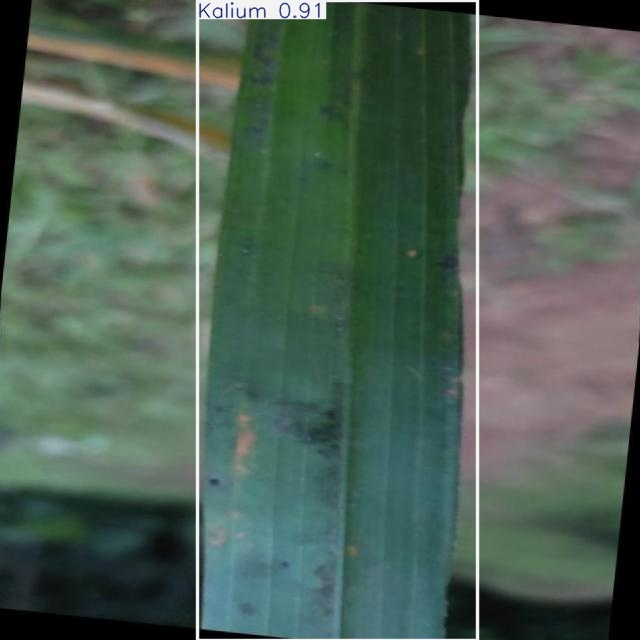Kalium: (197, 0, 477, 640)
